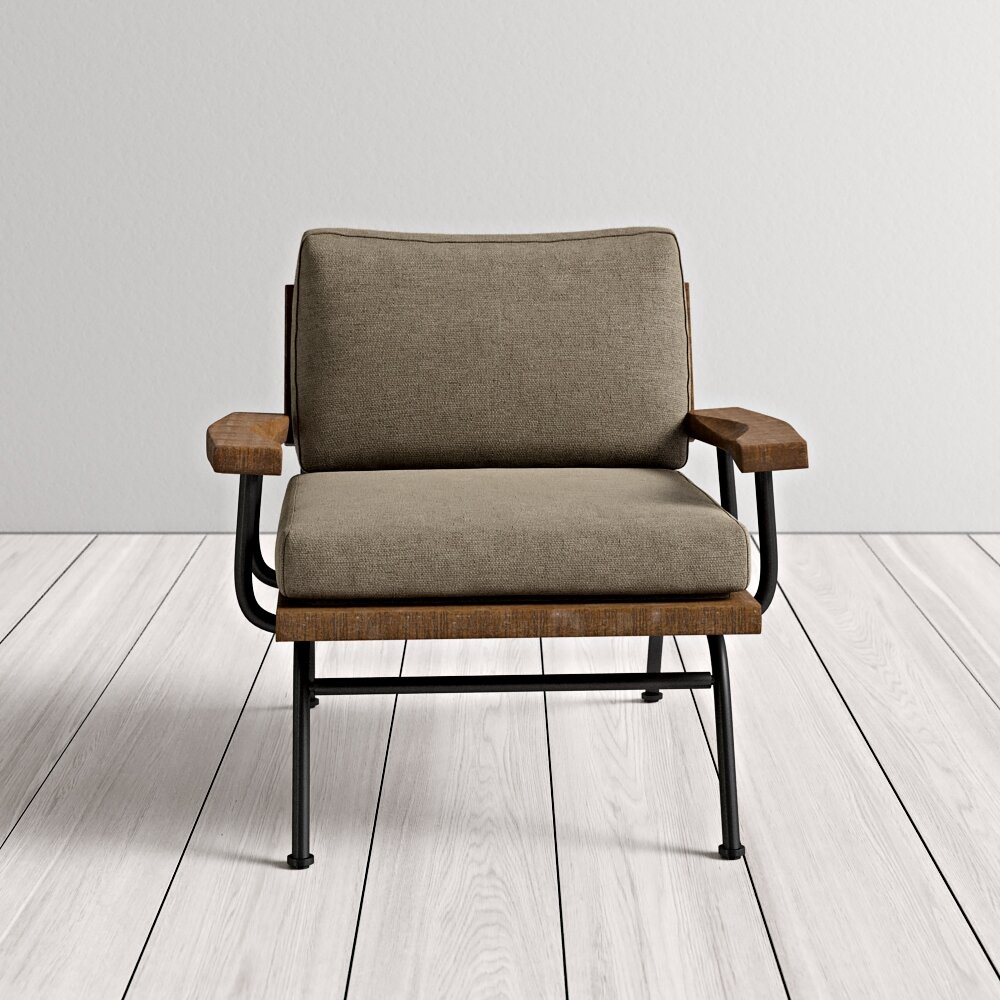obstacle: (207, 228, 807, 867)
